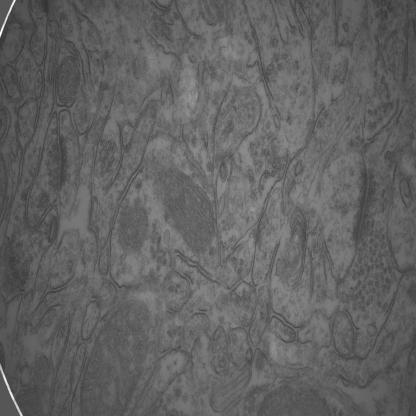mitochondria: (79, 308, 152, 416), (154, 165, 214, 256), (120, 201, 149, 252), (54, 56, 79, 106)
